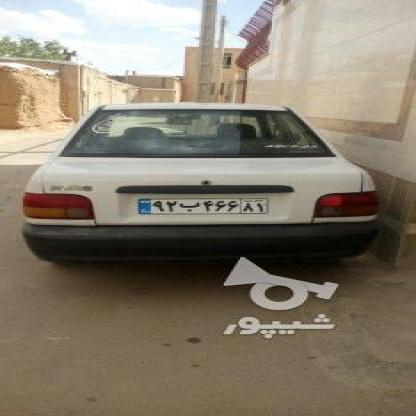licence: (133, 195, 267, 213)
